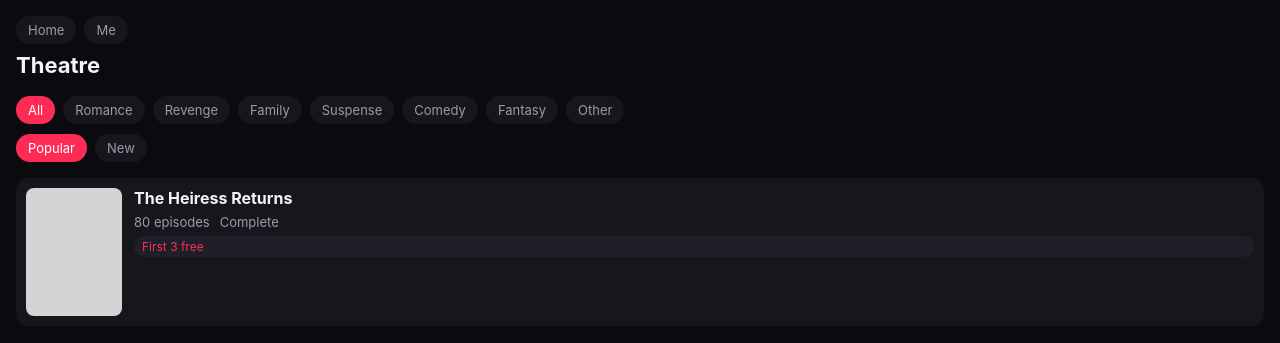
Scenario: the browse grid › writes a category chip into the route so back restores it
This screenshot has width=1280, height=343.
Expected: the list with test id "browse-list" is shown, x1=16 y1=178 x2=1264 y2=326
Click the button with test id "browse-category-FAMILY". click: point(270, 110)
box: x1=238 y1=96 x2=302 y2=124
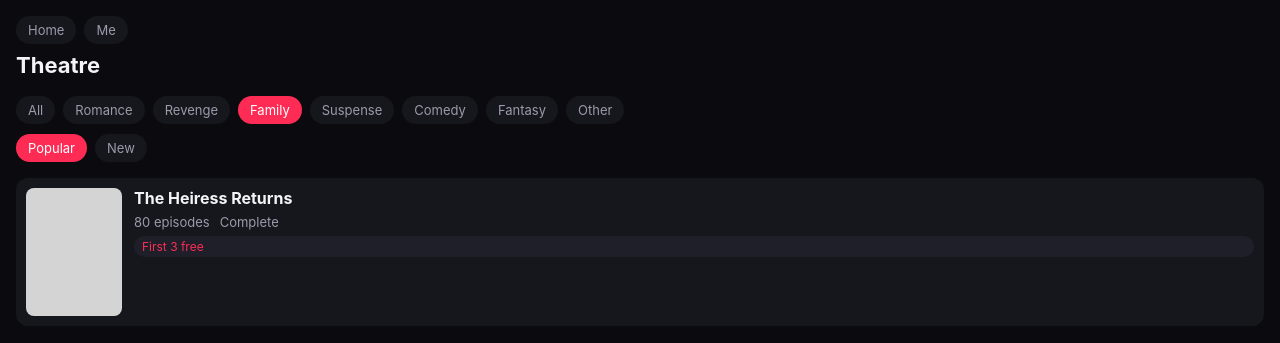
Expected: the button with test id "browse-category-FAMILY" is pressed, x1=238 y1=96 x2=302 y2=124
